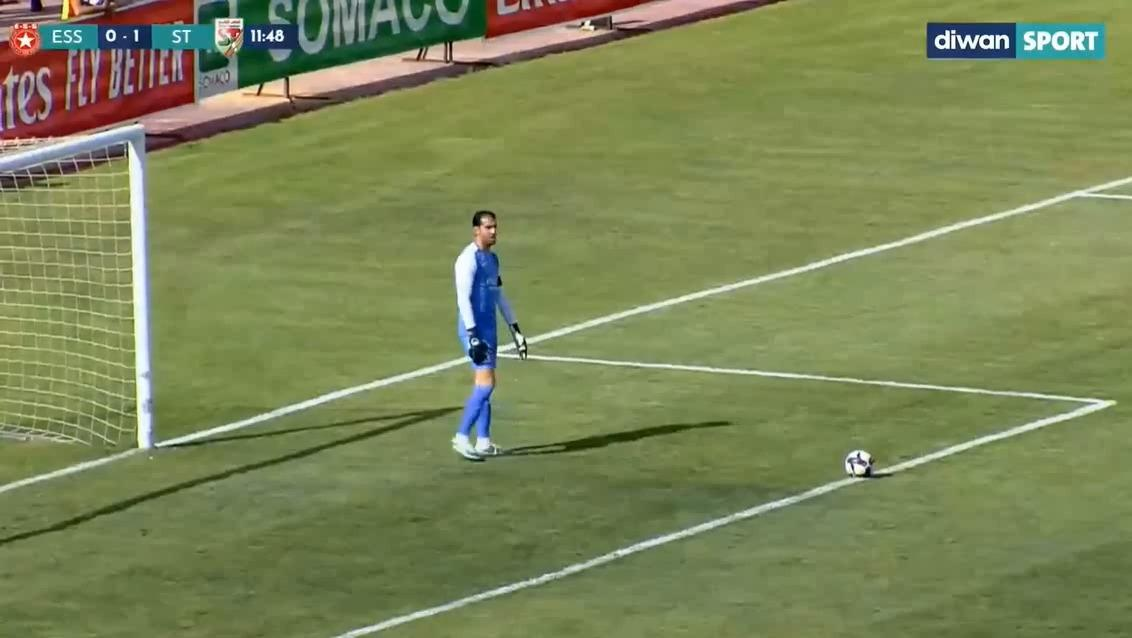ball: (842, 423, 889, 494)
goalkeeper: (442, 199, 544, 471)
